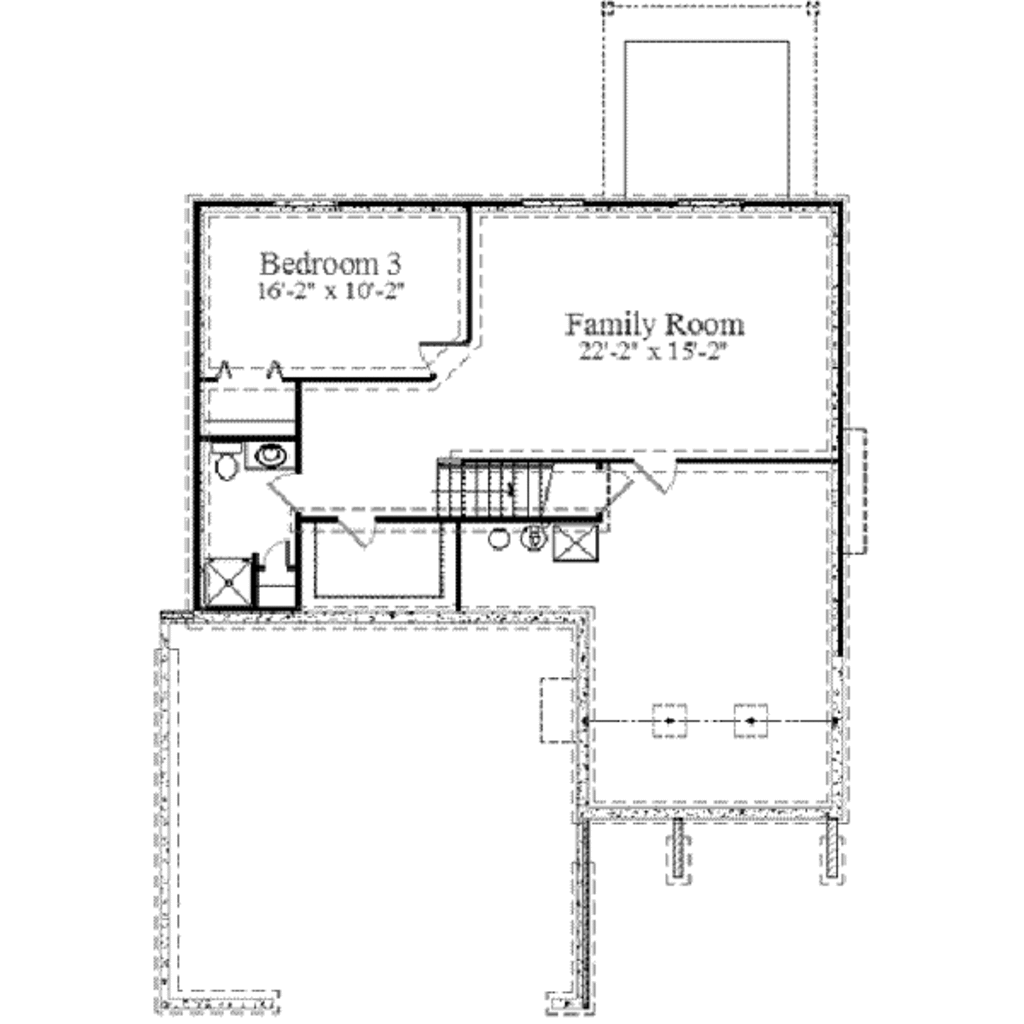door: (330, 508, 383, 552), (627, 454, 679, 498), (414, 336, 467, 378), (270, 471, 308, 520), (252, 539, 300, 573)
large_sink: (208, 436, 243, 489)
small_sink: (240, 435, 287, 470)
stairs: (424, 449, 605, 514)
window: (832, 428, 876, 565), (522, 190, 591, 214), (273, 192, 337, 212)
